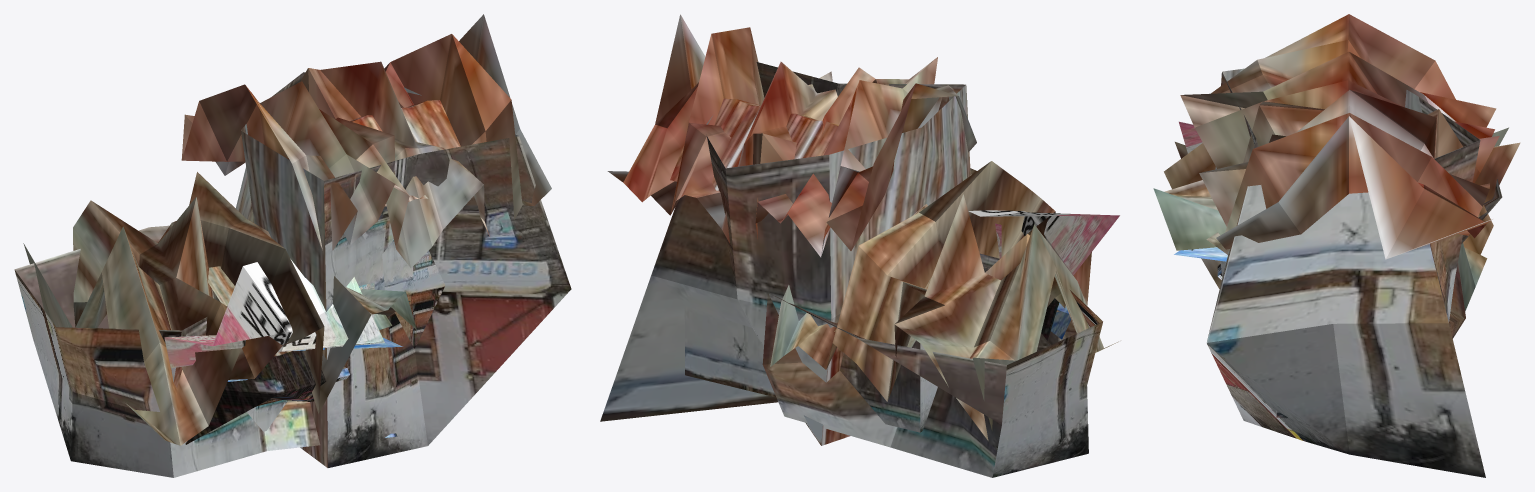
The model's file is Yellowbasketstore.glb.
3 views of the same model, side by side, from view 1: azimuth 30°, elevation 25°; view 2: azimuth 150°, elevation 25°; view 3: azimuth 270°, elevation 25° (orthographic). The views are drawn at different scales.
Parts seen in each view (by area): view 1: Plane, Plane.001; view 2: Plane, Plane.001; view 3: Plane.
Part boxes in pixels (x1=…): Plane: x1=14, y1=14, x2=571, y2=477; Plane.001: x1=208, y1=100, x2=460, y2=431; Plane: x1=600, y1=14, x2=1119, y2=477; Plane.001: x1=670, y1=98, x2=1001, y2=432; Plane: x1=1153, y1=14, x2=1520, y2=477.
Bounding box in the file's own units: 13.36 × 10.55 × 9.83.
1 material, 1 textured.
